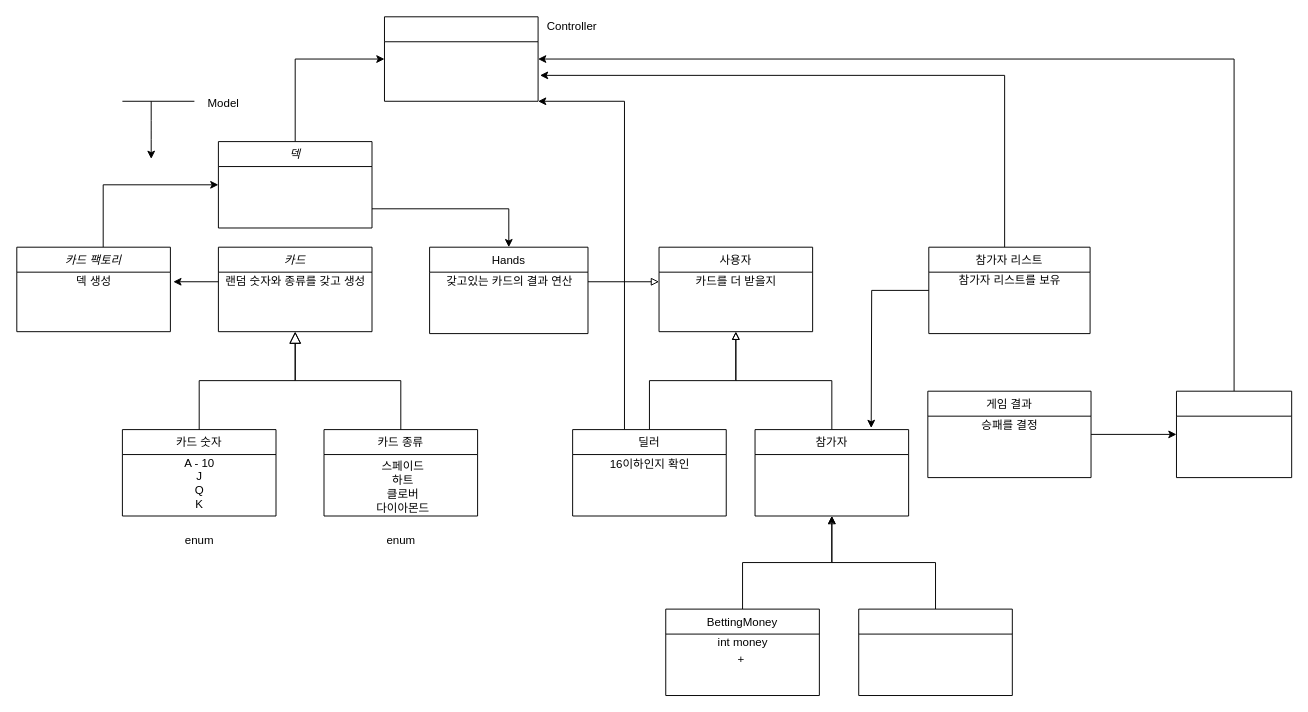
This 1308x712 diagram has some shape labels left out. The centre of each missing label's shape, as x and y in pixels:
"Profits" goes at (1234,434).
"게임" goes at (461,58).
"이름" goes at (935,652).
